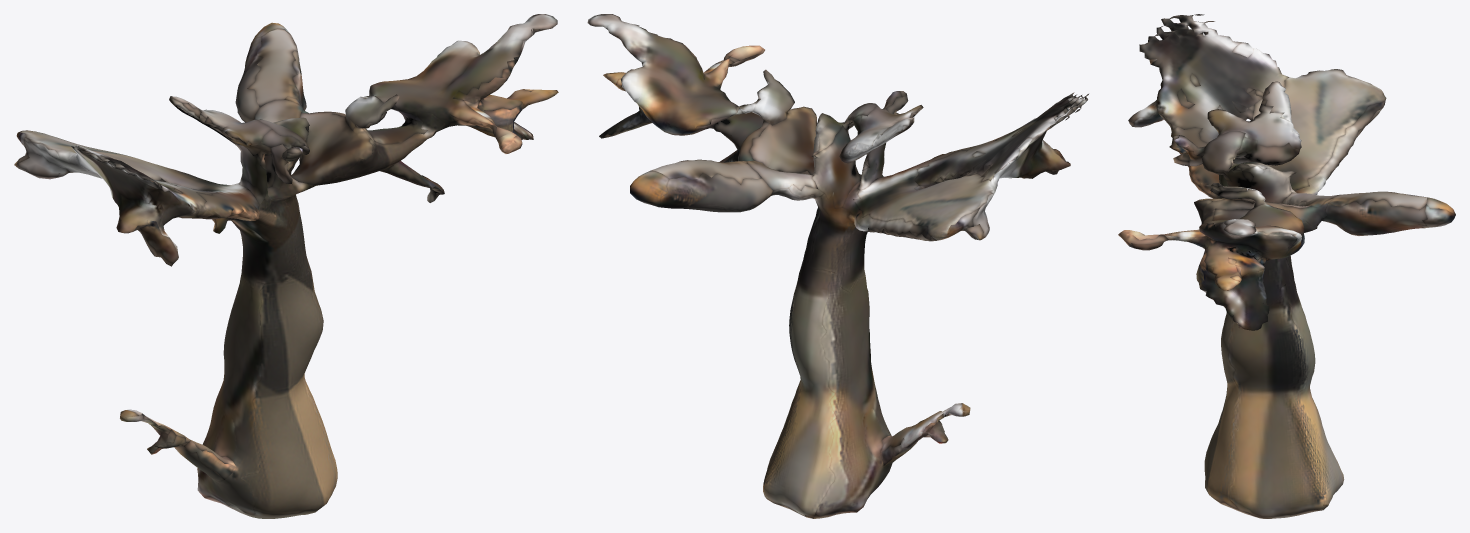
The picture shows the model from 3 angles, left to right: view 1: azimuth 30°, elevation 25°; view 2: azimuth 150°, elevation 25°; view 3: azimuth 270°, elevation 25°; orthographic projection. The views are drawn at different scales.
Visible parts, largest first — view 1: model.obj; view 2: model.obj; view 3: model.obj.
Boxes of the visible parts, left/top/right/bottom form: model.obj: left=14, top=14, right=558, bottom=518; model.obj: left=587, top=14, right=1088, bottom=518; model.obj: left=1118, top=14, right=1455, bottom=518.
Bounding box in the file's own units: 0.929 × 0.789 × 0.6131.
1 material, 1 textured.
